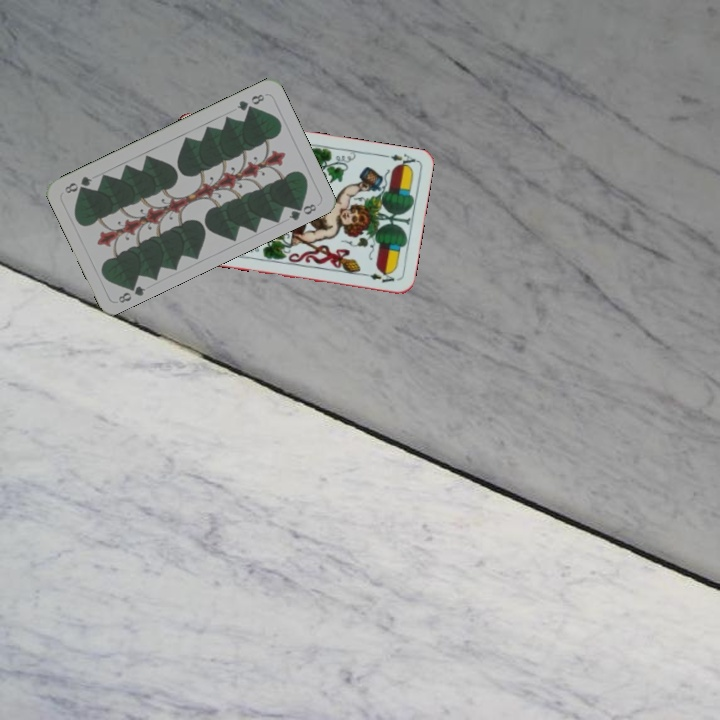EA: (378, 149, 418, 170)
G8: (114, 278, 148, 306), (233, 90, 267, 113)
